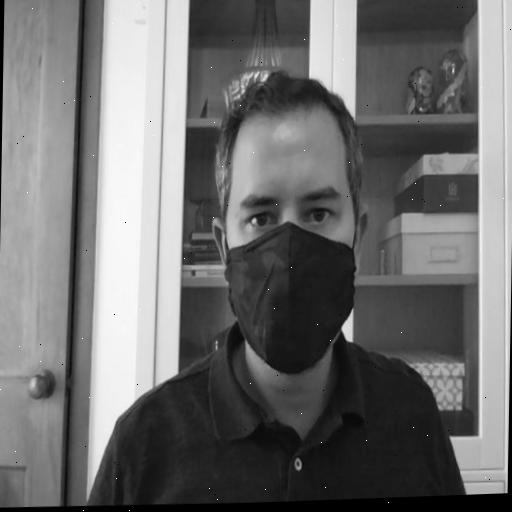mask: (214, 65, 368, 373)
